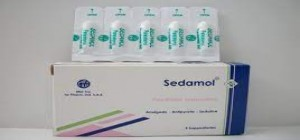Medicine: (46, 60, 252, 136), (69, 5, 226, 63)
